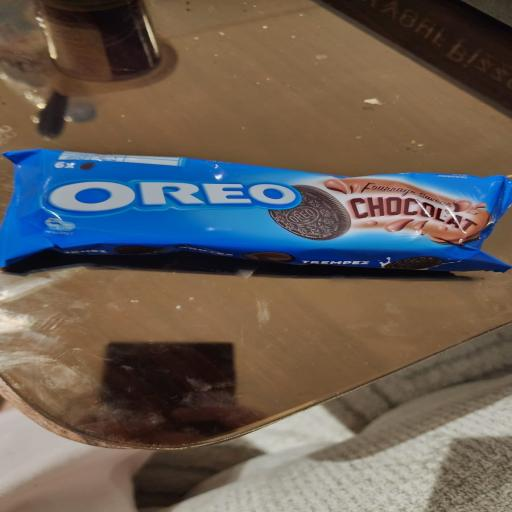oreo: (14, 112, 512, 292)
